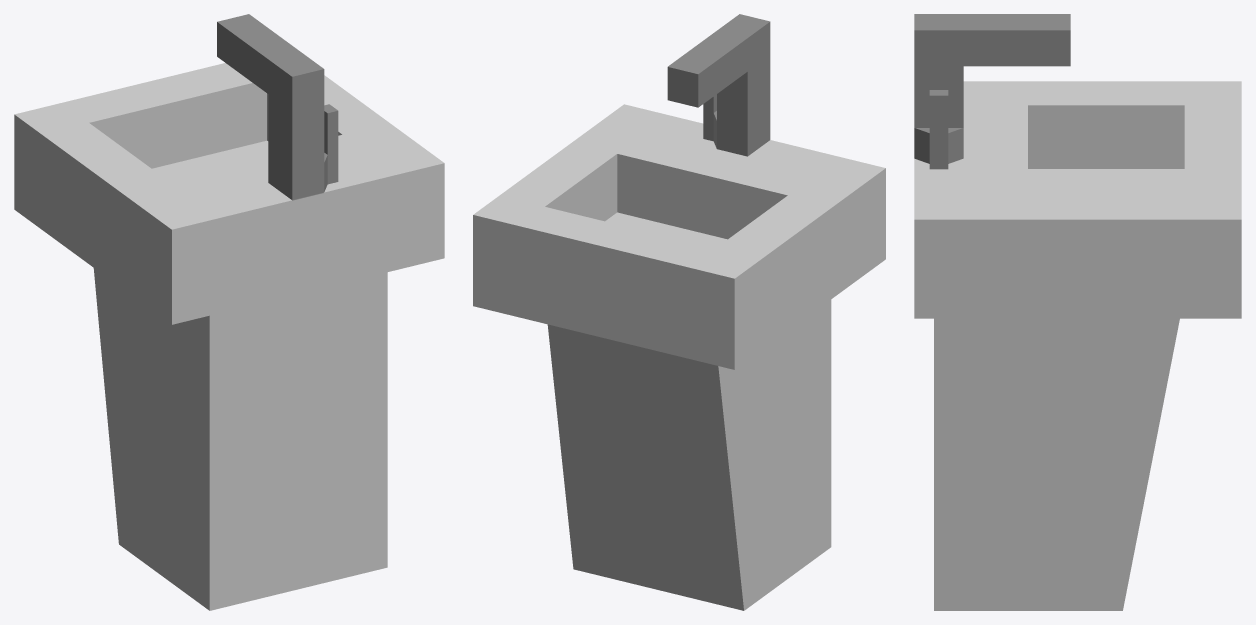
File: sink.fbx
3 views of the same model, side by side, from view 1: azimuth 30°, elevation 25°; view 2: azimuth 150°, elevation 25°; view 3: azimuth 270°, elevation 25° (orthographic). The views are drawn at different scales.
Visible parts, largest first — view 1: Cube.001; view 2: Cube.001; view 3: Cube.001.
Part boxes in pixels (bbox=[...]): Cube.001: bbox=[14, 14, 444, 610]; Cube.001: bbox=[473, 14, 885, 610]; Cube.001: bbox=[914, 14, 1241, 610].
Size of the model in its own units: 187 by 344 by 187.
